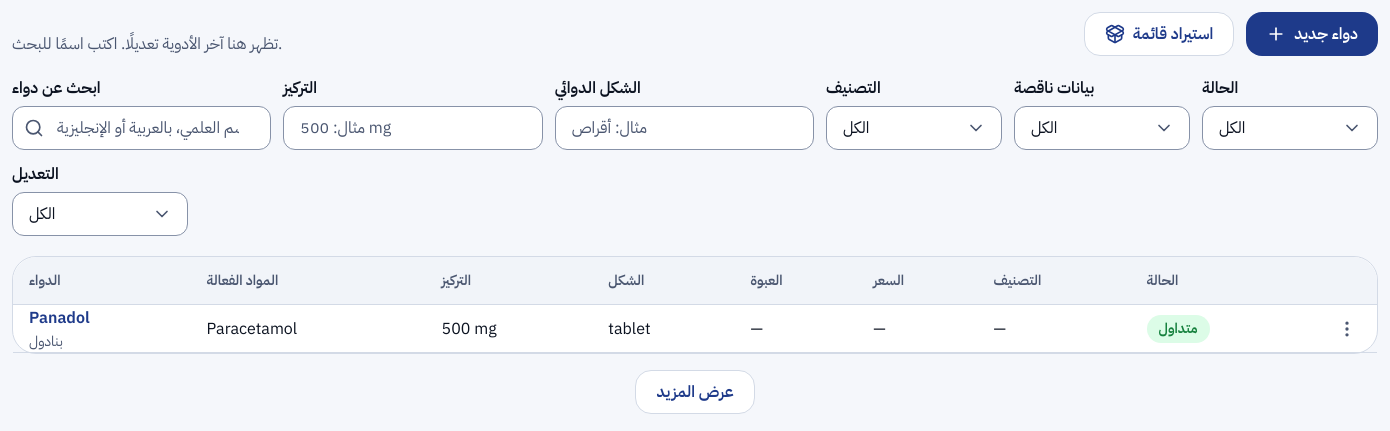
Scenario: DrugsView › loads the next page with the cursor
Click the button "عرض المزيد" at (695, 392), box top-left (635, 370), bottom-right (755, 414)
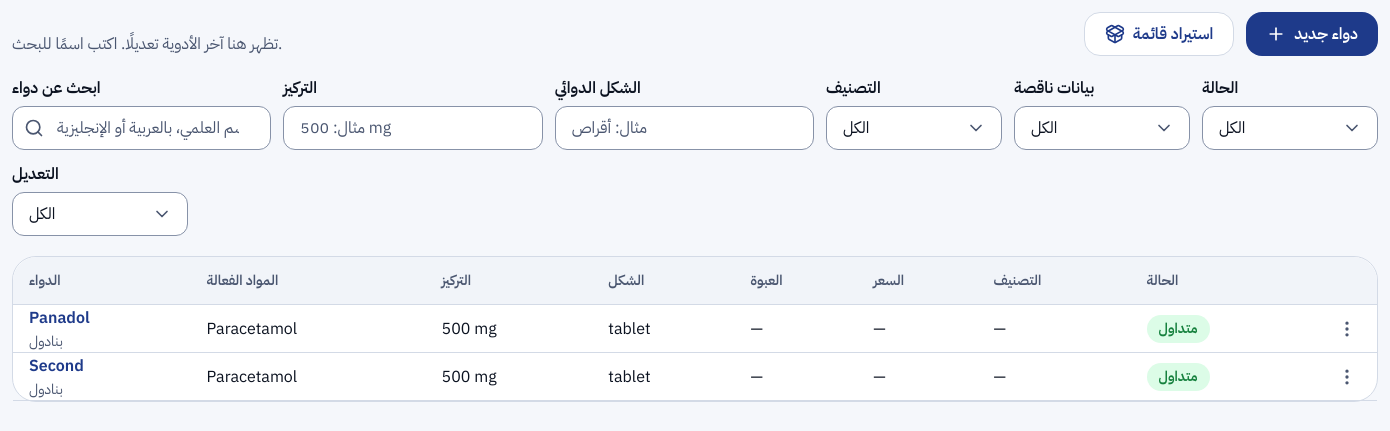
Result: the text "Second" is shown at top-left (29, 354), bottom-right (84, 378)
